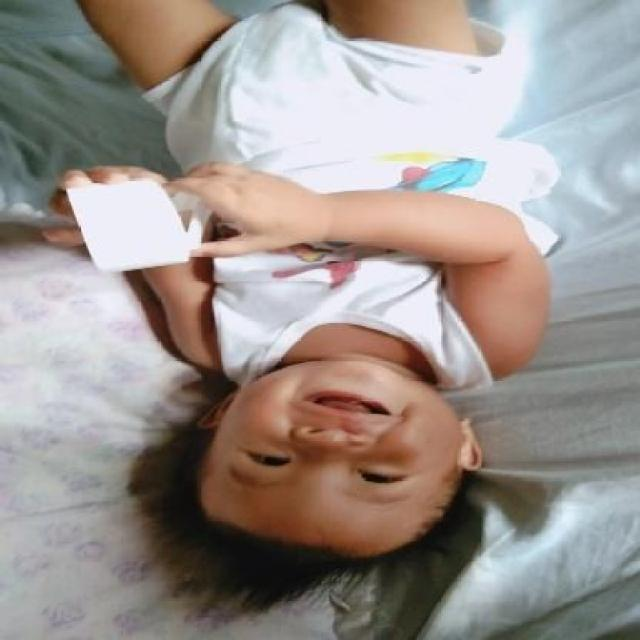baby: (46, 1, 551, 557)
